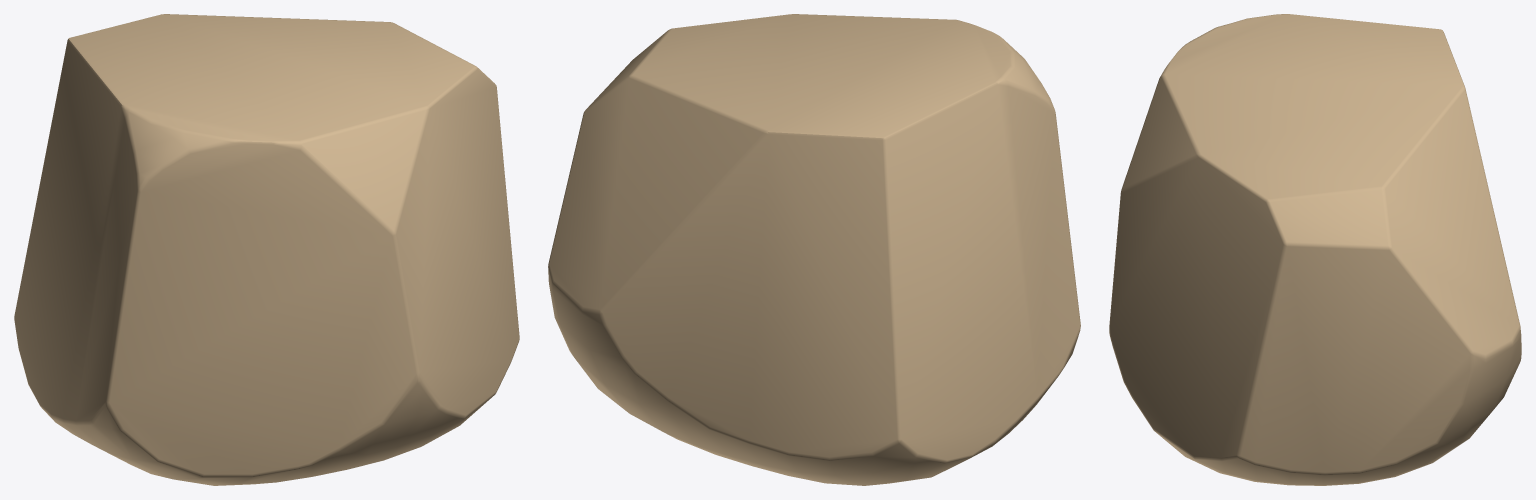
The model's file is rock_boulder_04.glb.
The picture shows the model from 3 angles, left to right: view 1: azimuth 30°, elevation 25°; view 2: azimuth 150°, elevation 25°; view 3: azimuth 270°, elevation 25°; orthographic projection. The views are drawn at different scales.
Parts seen in each view (by area): view 1: rock_boulder_04; view 2: rock_boulder_04; view 3: rock_boulder_04.
Boxes of the visible parts, bbox=[...] form: rock_boulder_04: bbox=[14, 14, 519, 485]; rock_boulder_04: bbox=[548, 14, 1080, 485]; rock_boulder_04: bbox=[1109, 14, 1521, 485].
Bounding box in the file's own units: 2.5 × 2.2 × 2.31.
